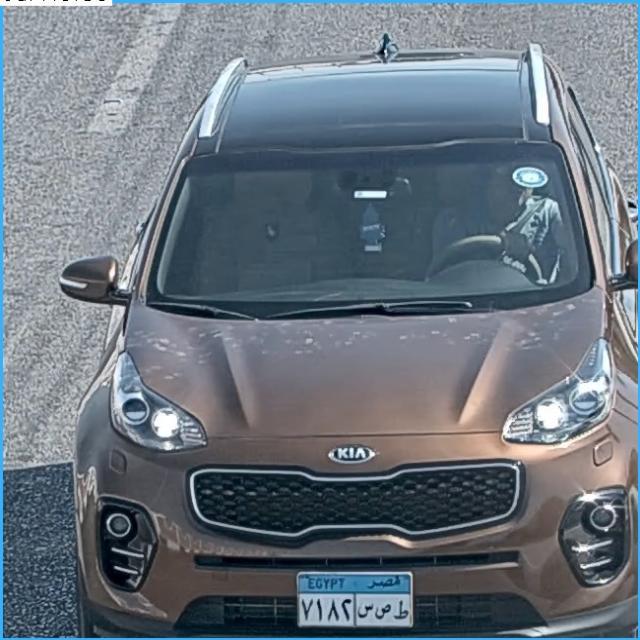windshield: (156, 162, 583, 297)
